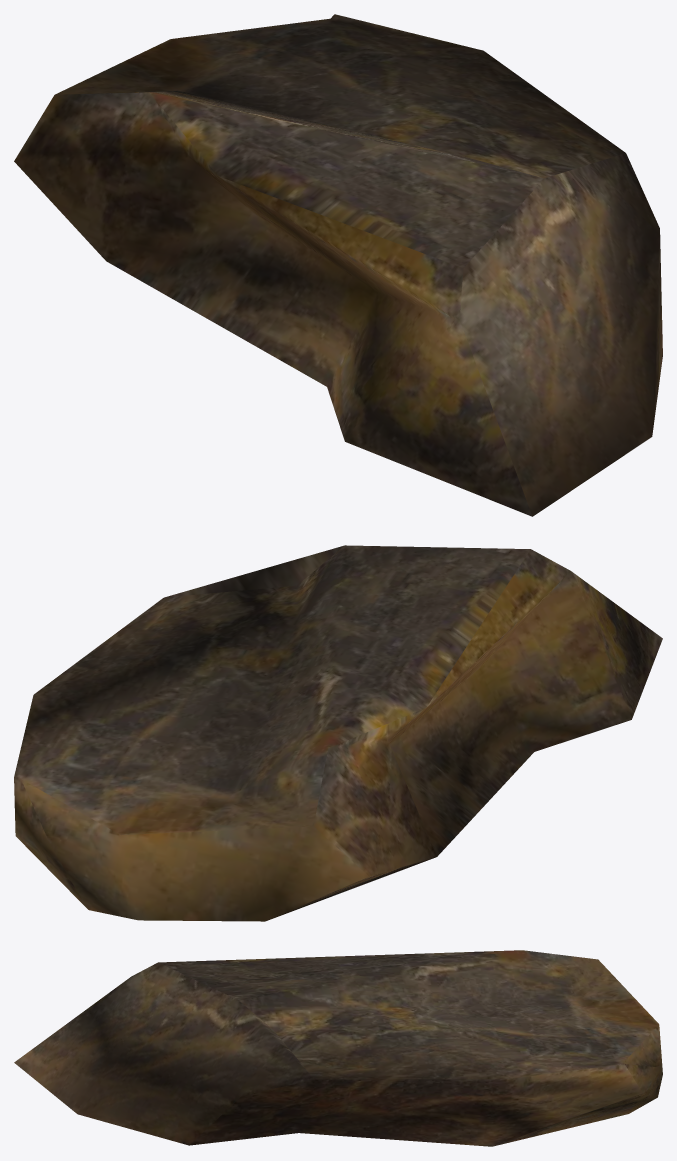
Rendered from rock_09.glb.
3 views of the same model, one above another, from view 1: azimuth 30°, elevation 25°; view 2: azimuth 150°, elevation 25°; view 3: azimuth 270°, elevation 25° (orthographic). The views are drawn at different scales.
Parts seen in each view (by area): view 1: rock_09_LOD0; view 2: rock_09_LOD0; view 3: rock_09_LOD0.
Part boxes in pixels (x1,y1,x2,y2): rock_09_LOD0: (14, 14, 662, 516); rock_09_LOD0: (14, 545, 662, 921); rock_09_LOD0: (14, 950, 662, 1146).
Bounding box in the file's own units: 0.0724 × 0.0301 × 0.1425.
1 material, 1 textured.
